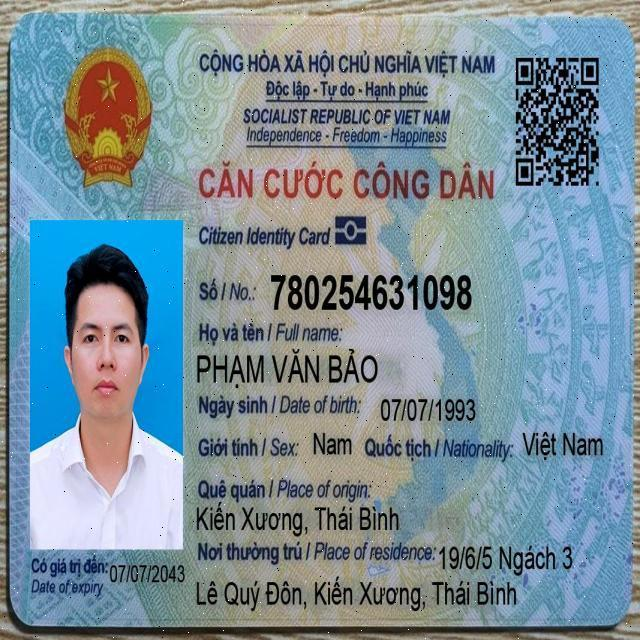current_place: (192, 572, 519, 616), (438, 541, 575, 579)
dob: (376, 395, 478, 426)
expire_date: (109, 561, 188, 586)
gender: (311, 427, 354, 461)
id: (267, 268, 476, 317)
name: (194, 344, 381, 393)
nationality: (521, 427, 605, 463)
origin_place: (194, 499, 402, 539)
